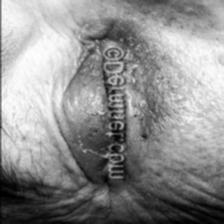Toxin: (122, 28, 224, 163), (57, 46, 106, 164)
